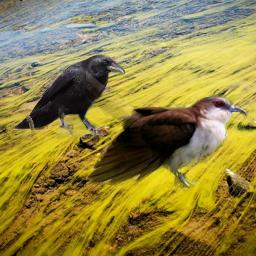Crow: (9, 53, 125, 140)
Cuckoo: (86, 33, 249, 193)
